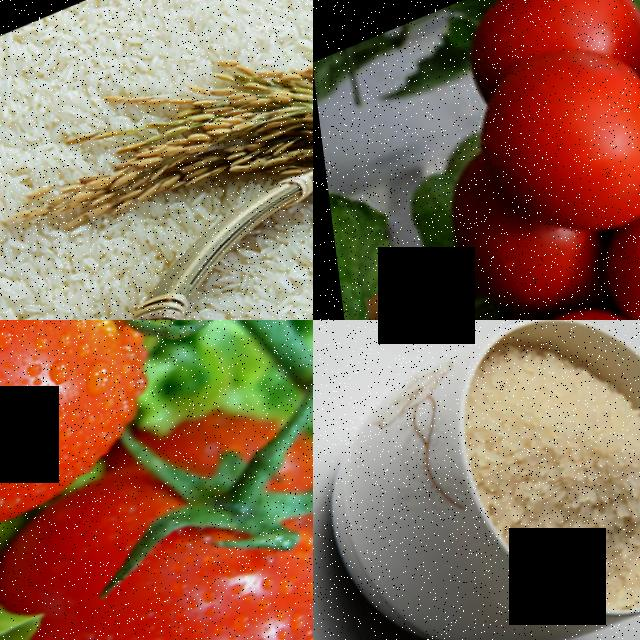tomato: (0, 320, 252, 614), (447, 22, 640, 268), (576, 176, 640, 320)
white rice: (453, 339, 640, 608)
